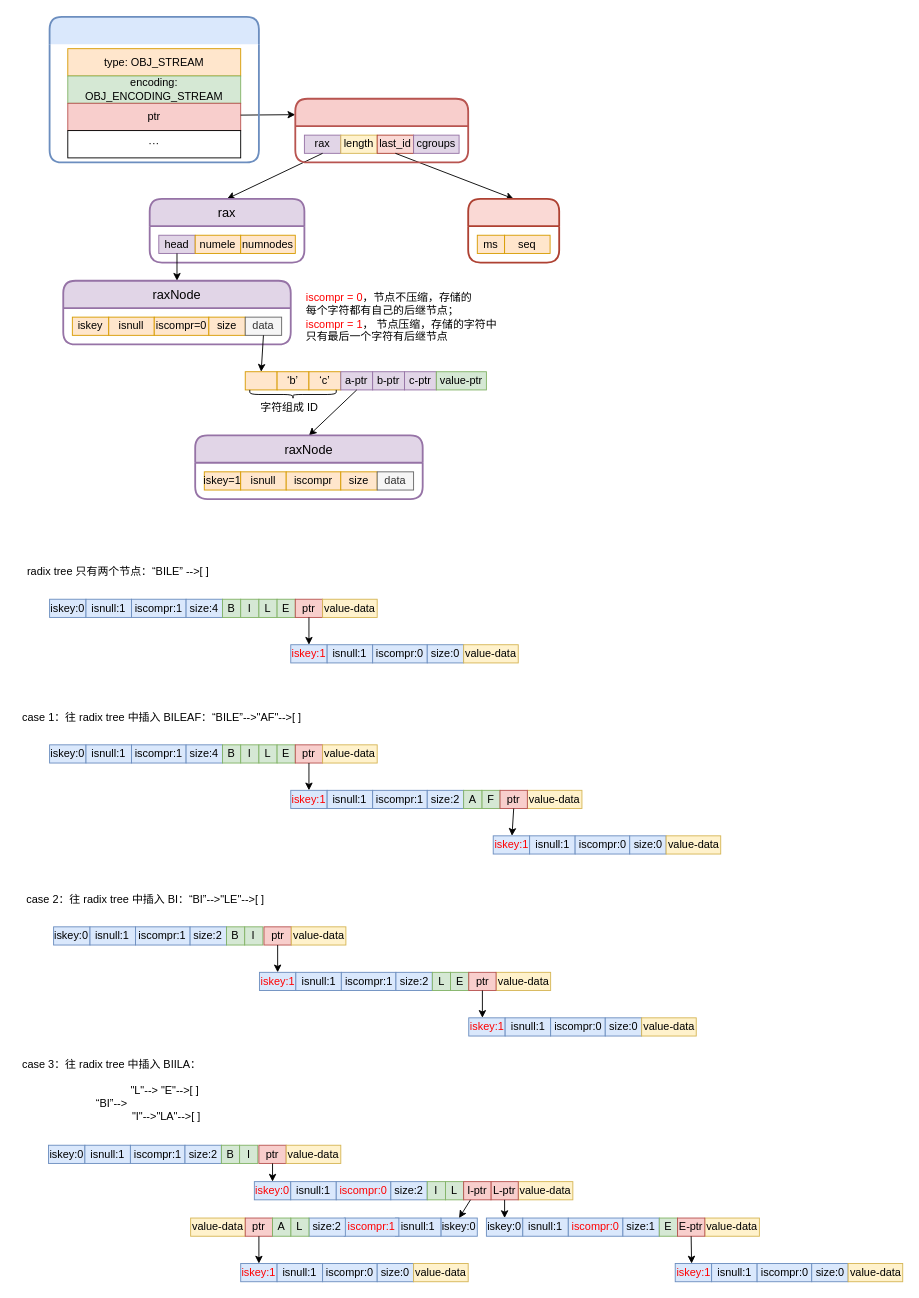
Image size: 919x1298. Some labels were removed from this diagram. The shapes that lost their labels are listed below. From the top down, each one's centre as x and y in pixels, then its label:
point (153, 89): redisObject
point (381, 130): stream
point (513, 230): streamID
point (260, 380): ‘a’
